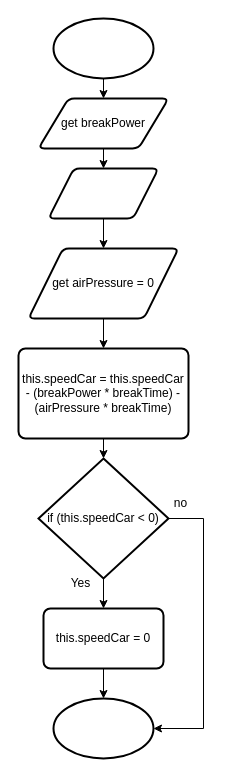
Image size: 229x776. Some labels were removed from this diagram. The shapes that lost their labels are listed below. From the top down, each one's centre as x and y in pixels, then its label:
At point (103, 48): "Start".
At point (103, 193): "get breakTime".
At point (103, 728): "Stop".
